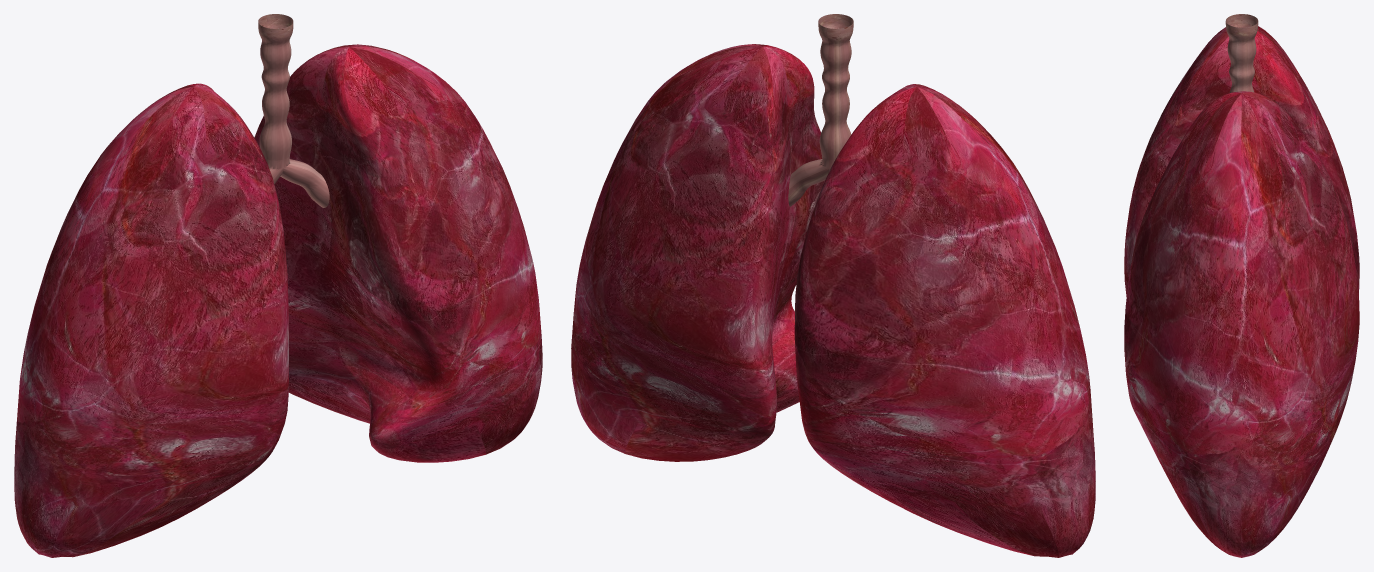
File: lungs.glb
The picture shows the model from 3 angles, left to right: view 1: azimuth 30°, elevation 25°; view 2: azimuth 150°, elevation 25°; view 3: azimuth 270°, elevation 25°; orthographic projection. The views are drawn at different scales.
Parts seen in each view (by area): view 1: udambu; view 2: udambu; view 3: udambu.
Part boxes in pixels (x1,y1,x2,y2): udambu: [14, 14, 542, 557]; udambu: [571, 14, 1095, 557]; udambu: [1124, 14, 1359, 557].
Size of the model in its own units: 0.6 by 0.5409 by 0.2608.
Materials: 2 (2 with a texture image).
